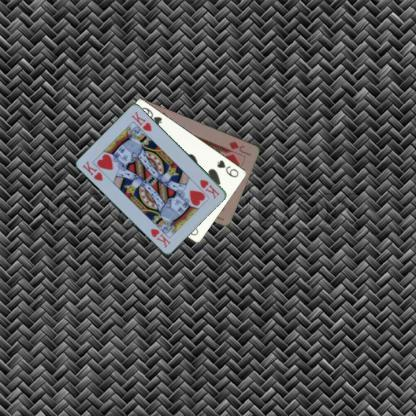9s: (214, 157, 240, 179)
Jd: (226, 139, 252, 158)
Kh: (196, 176, 221, 200), (80, 158, 104, 183)
